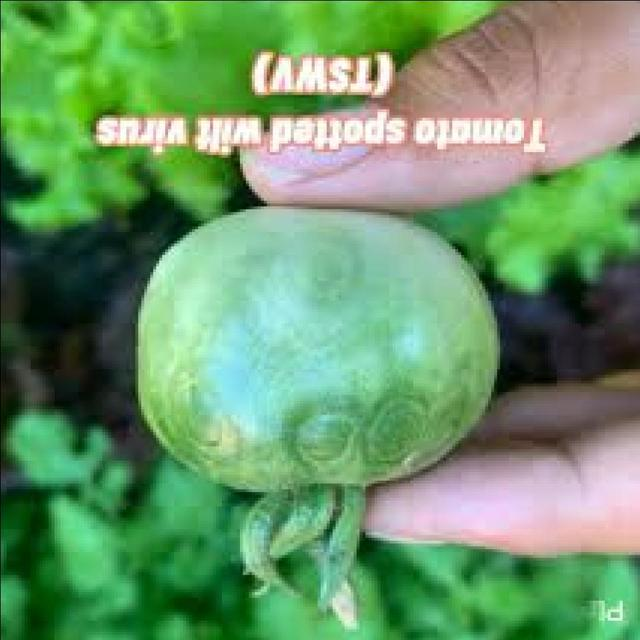Spotted wilt Virus Fruit: (87, 137, 333, 330)
